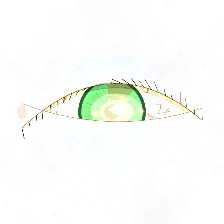corneal_ulcer: (89, 90, 144, 134)
